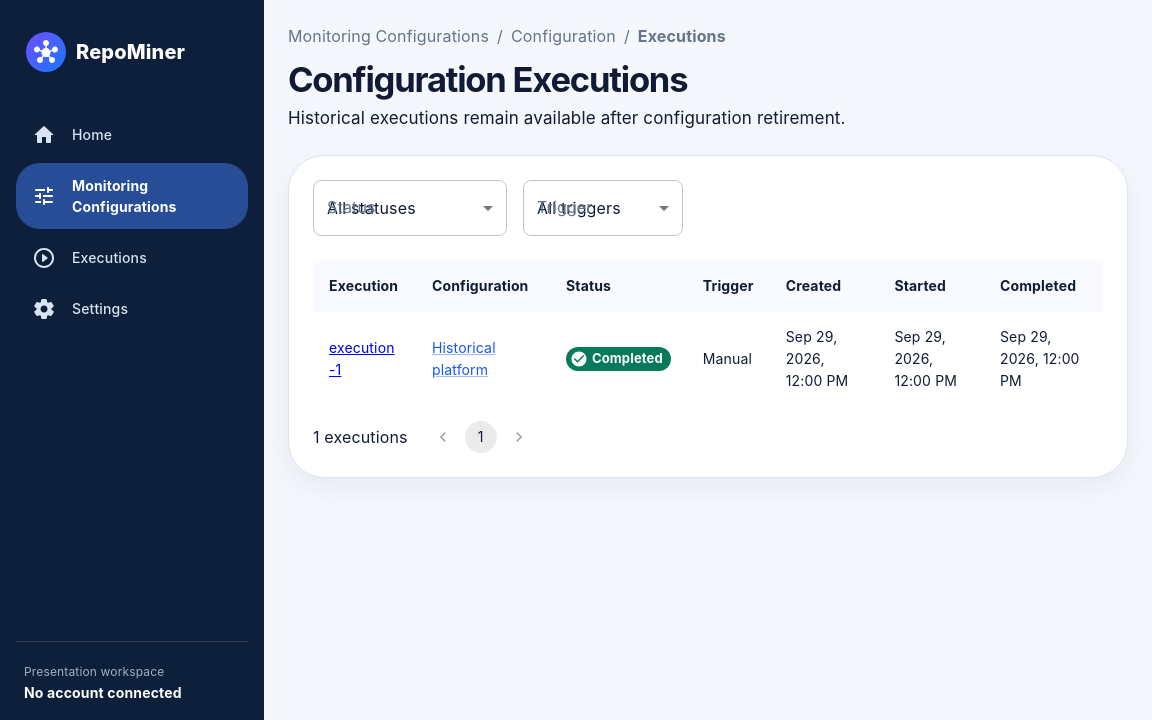
Test: returns to the originating global or configuration execution history
Click the link "execution-1".
click(362, 348)  # box x1=329 y1=339 x2=395 y2=378
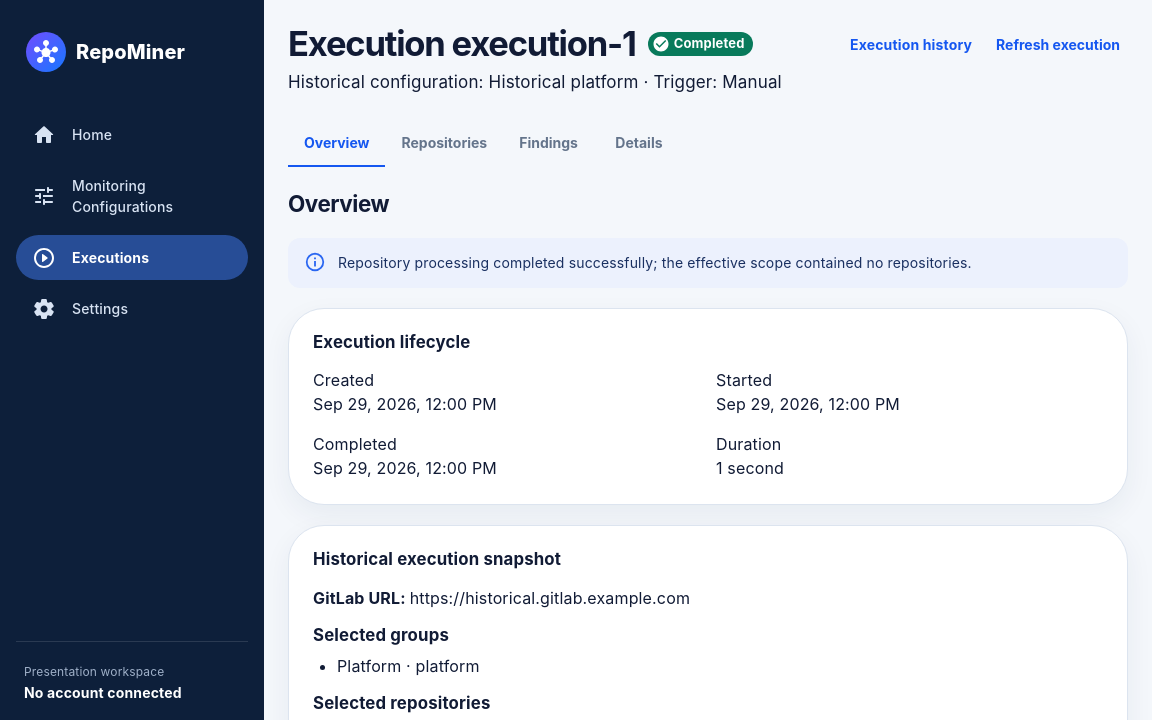
Result: the heading "Execution execution-1" is shown at x1=288 y1=24 x2=636 y2=64
Click the link "Execution history".
click(911, 44)  # box x1=850 y1=36 x2=972 y2=53
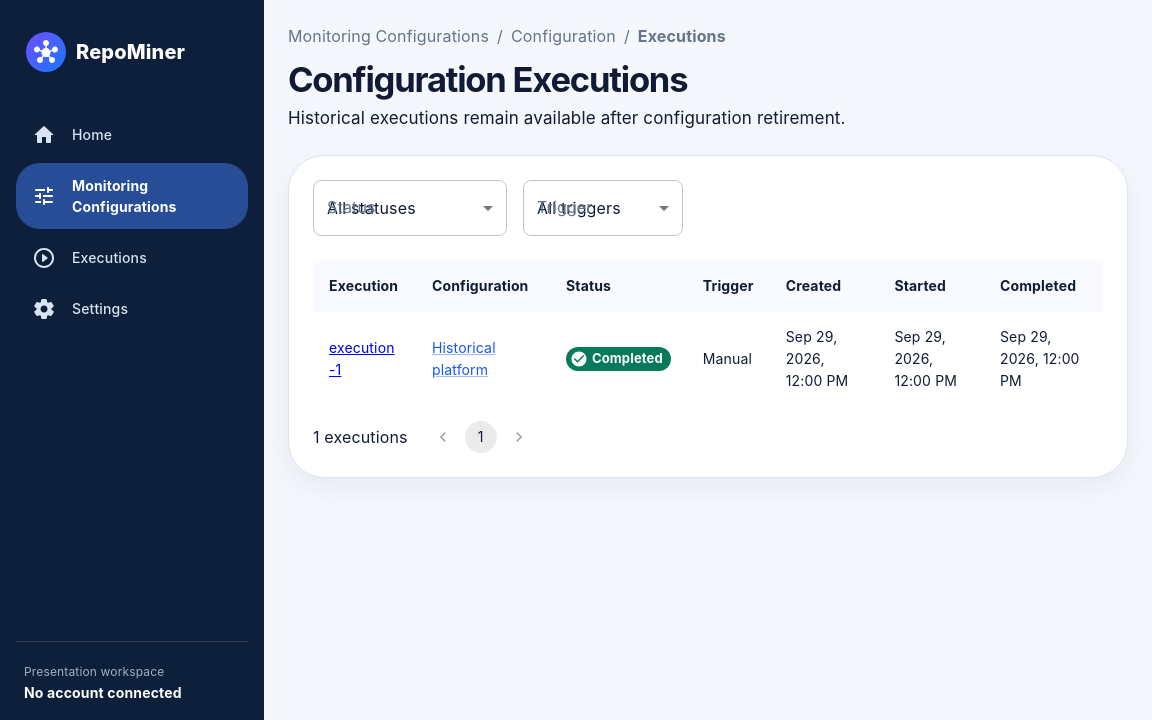
Result: the table named "Execution history" is shown at x1=313 y1=260 x2=1103 y2=405
